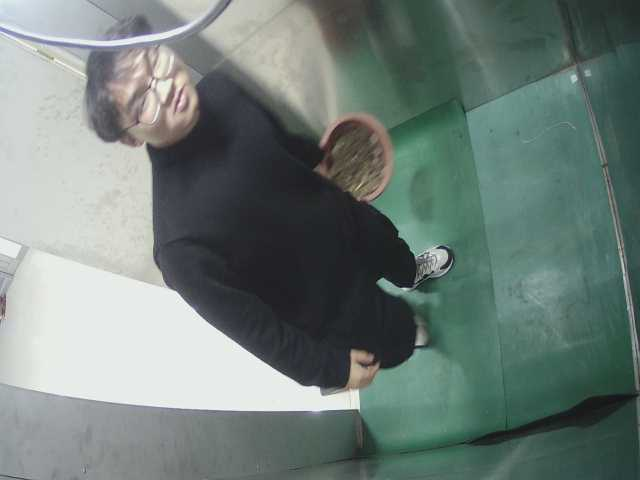flowerpot: (291, 108, 406, 211)
person: (87, 20, 449, 386)
